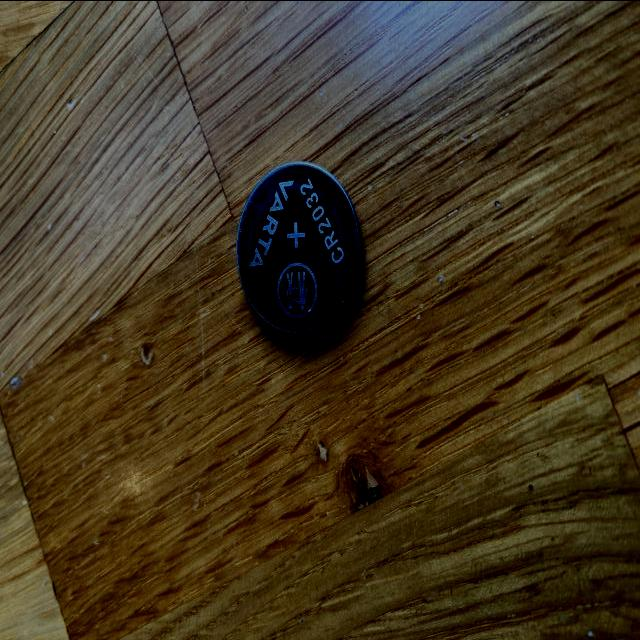COIN: (235, 160, 362, 334)
